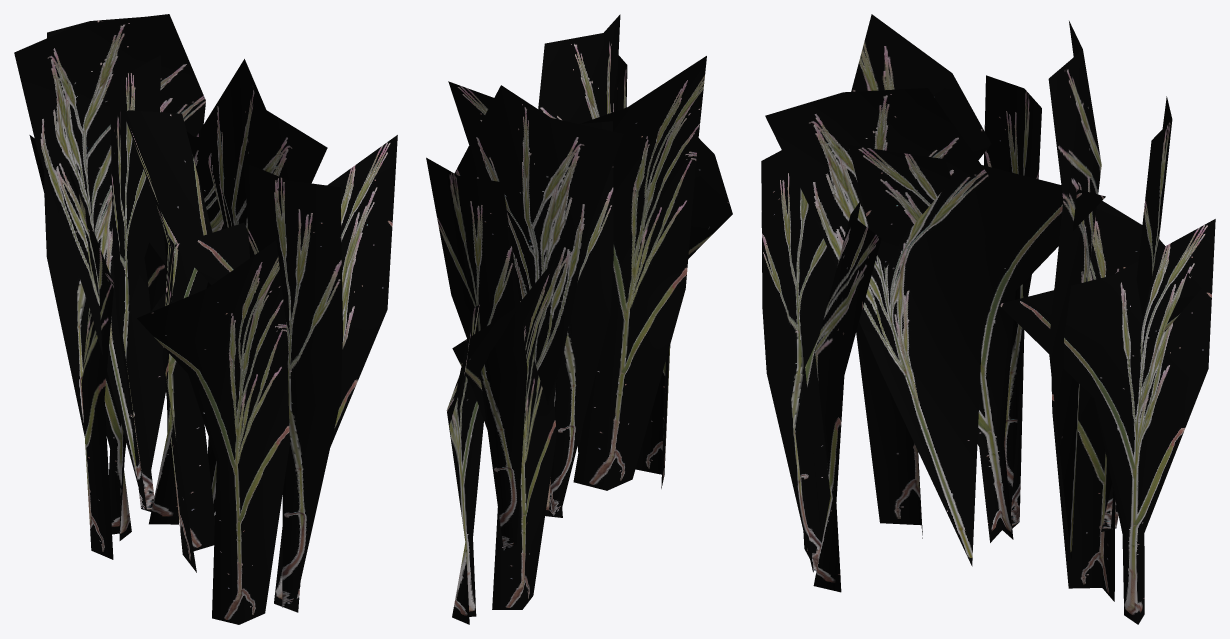
Rendered from SM_grass_3.fbx.
The picture shows the model from 3 angles, left to right: view 1: azimuth 30°, elevation 25°; view 2: azimuth 150°, elevation 25°; view 3: azimuth 270°, elevation 25°; orthographic projection. The views are drawn at different scales.
Visible parts, largest first — view 1: SM_grass_3_LOD0; view 2: SM_grass_3_LOD0; view 3: SM_grass_3_LOD0.
Part boxes in pixels (x1,y1,x2,y2): SM_grass_3_LOD0: (14,14,397,624); SM_grass_3_LOD0: (426,14,732,624); SM_grass_3_LOD0: (761,14,1215,624).
Size of the model in its own units: 41.23 by 57.42 by 75.68.
